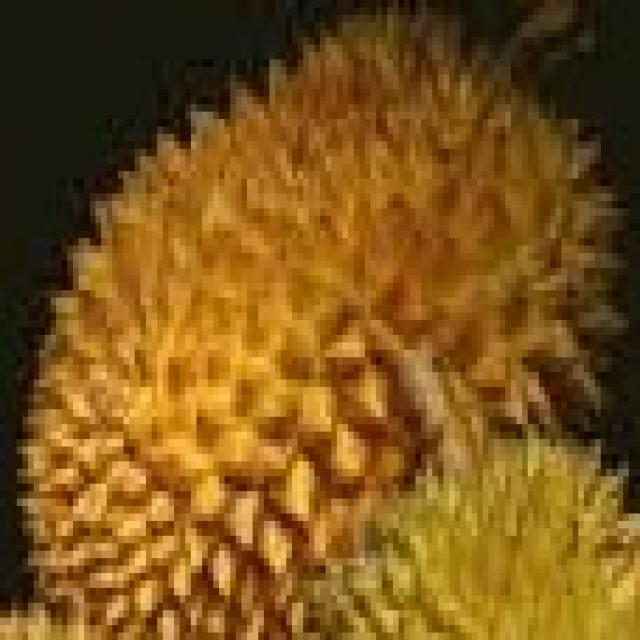mature: (1, 8, 625, 637)
